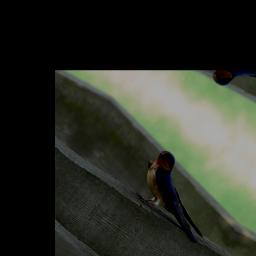Swallow: (126, 143, 242, 255)
